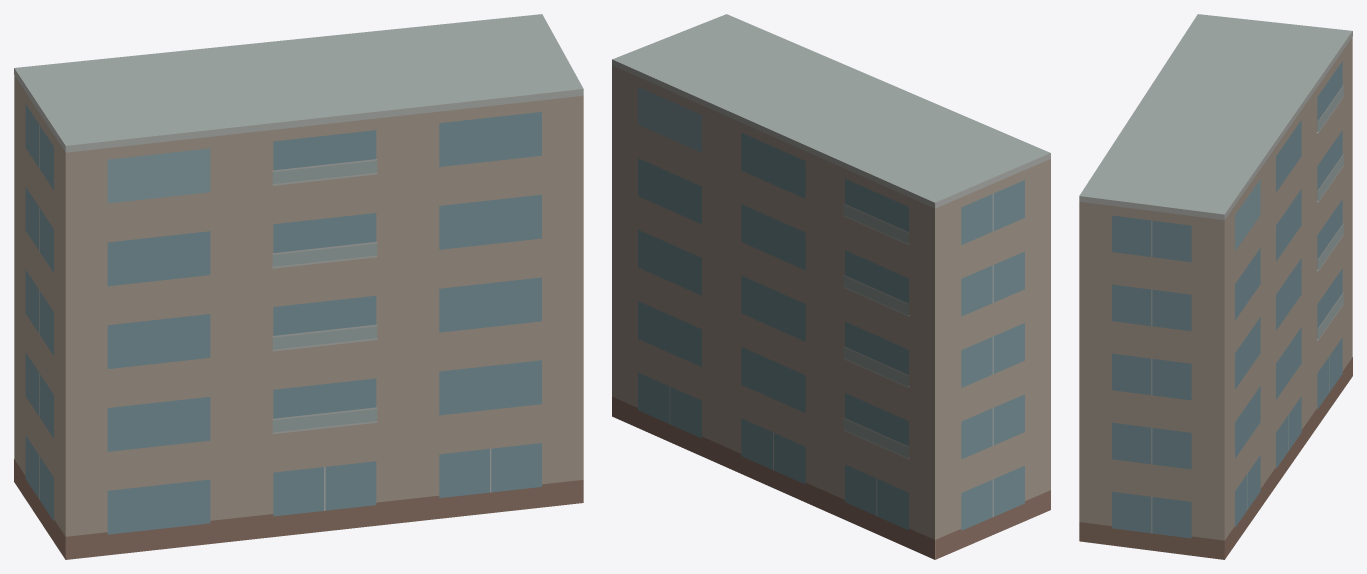
File: survey-upis-32955398.glb
3 renders of one model, left to right at view 1: azimuth 30°, elevation 25°; view 2: azimuth 150°, elevation 25°; view 3: azimuth 270°, elevation 25°, orthographic. The views are drawn at different scales.
Visible parts, largest first — view 1: survey-upis-32955398.tmp; view 2: survey-upis-32955398.tmp; view 3: survey-upis-32955398.tmp.
Boxes of the visible parts, box(x1,y1,x2,y2) form: survey-upis-32955398.tmp: box(14, 14, 583, 559); survey-upis-32955398.tmp: box(612, 14, 1050, 559); survey-upis-32955398.tmp: box(1079, 14, 1352, 559).
Bounding box in the file's own units: 18.69 × 15 × 10.78.
